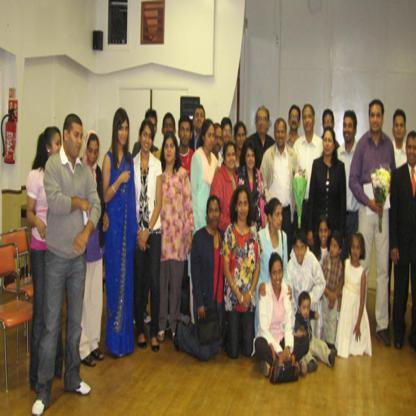face: (69, 129, 83, 158), (371, 108, 383, 133), (87, 143, 99, 167), (209, 205, 221, 228), (238, 198, 250, 221), (50, 139, 62, 161), (165, 141, 176, 163), (143, 129, 153, 153), (180, 125, 191, 146), (258, 113, 269, 134), (273, 267, 284, 288), (119, 121, 129, 144), (205, 128, 215, 151), (295, 241, 305, 264), (344, 119, 354, 142), (276, 126, 287, 146), (272, 209, 283, 229), (351, 240, 361, 262), (213, 134, 223, 155), (237, 129, 247, 150), (303, 112, 313, 133), (164, 121, 174, 141), (226, 150, 236, 170), (395, 120, 405, 140), (325, 133, 334, 155), (195, 112, 205, 131), (408, 142, 416, 165), (246, 151, 256, 169), (319, 226, 329, 243), (291, 111, 300, 129), (324, 117, 334, 133), (223, 127, 232, 144), (301, 302, 310, 319), (330, 241, 339, 258), (148, 121, 157, 137), (309, 236, 314, 248)
